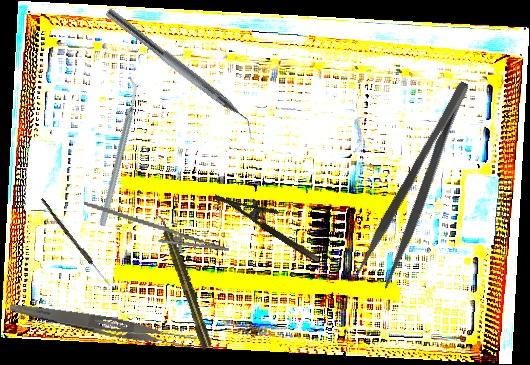Chopper: (96, 7, 266, 143), (48, 76, 187, 228)
Dressing Forceps: (352, 77, 491, 291), (7, 299, 198, 354)
Handpiece: (154, 210, 215, 352)
Needle Holder: (213, 177, 329, 265), (78, 200, 233, 264)
Surgical Spoon: (38, 197, 113, 288)
